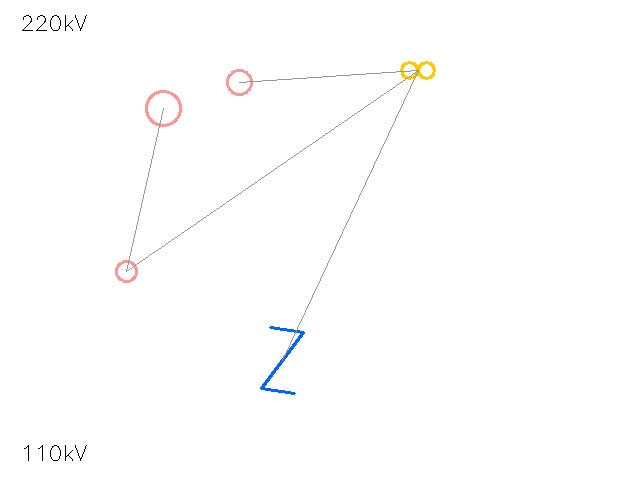circuit_breaker: (248, 326, 316, 394)
feeder_terminal: (129, 74, 197, 142), (215, 58, 263, 106)
surge_arrester: (105, 250, 147, 292)
transformer_2w: (397, 49, 439, 91)
